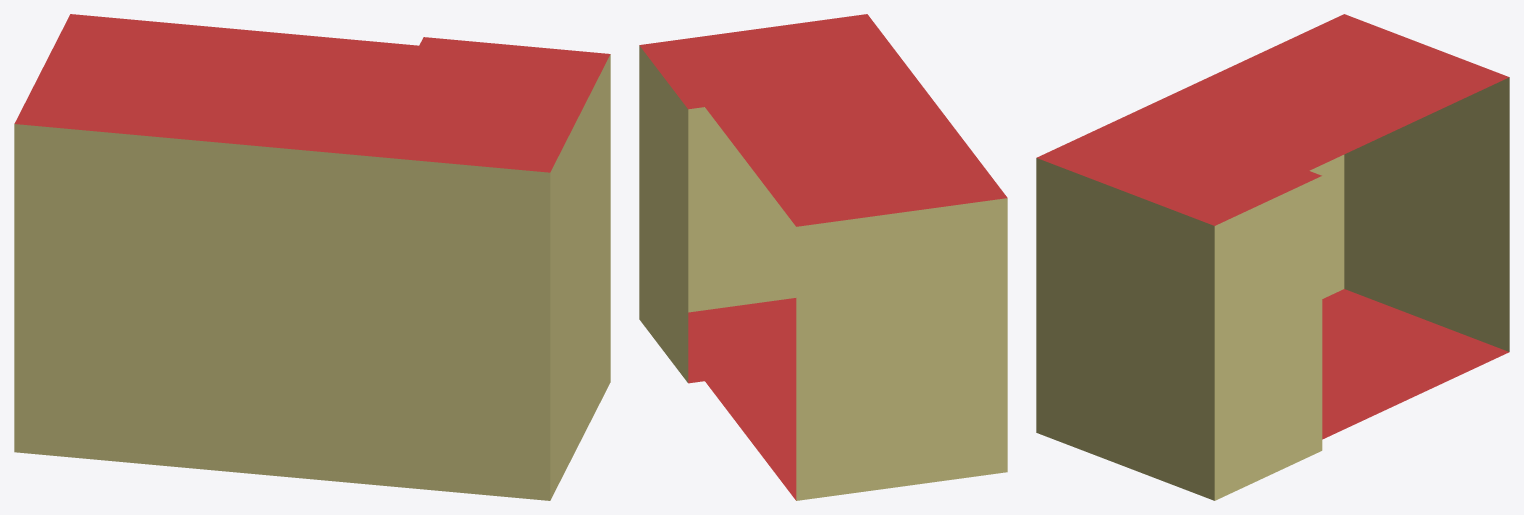
The picture shows the model from 3 angles, left to right: view 1: azimuth 30°, elevation 25°; view 2: azimuth 150°, elevation 25°; view 3: azimuth 270°, elevation 25°; orthographic projection. The views are drawn at different scales.
Bounding box in the file's own units: 8.76 × 8.26 × 5.3.
